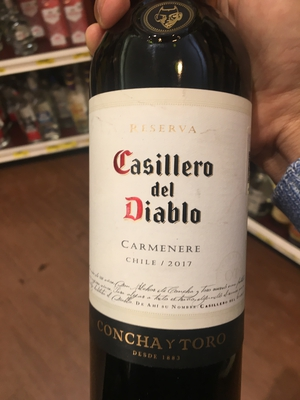casillero del diablo carmenere: (76, 22, 264, 400)
